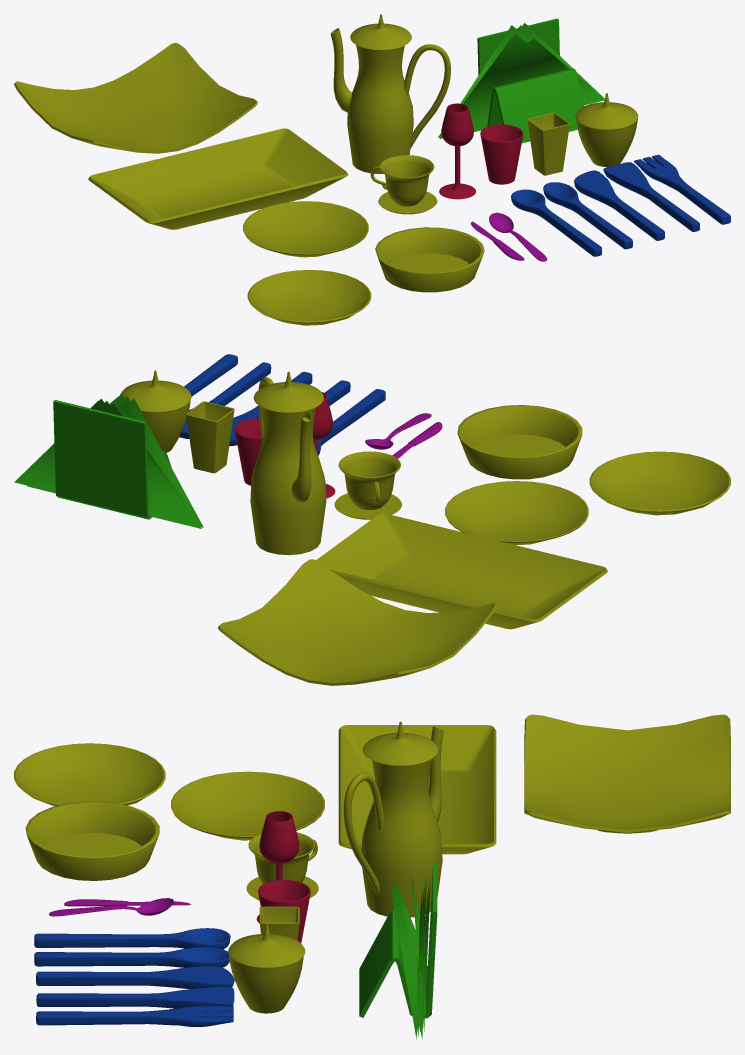
Rendered from kitchen items.FBX.
The picture shows the model from 3 angles, top to bottom: view 1: azimuth 30°, elevation 25°; view 2: azimuth 150°, elevation 25°; view 3: azimuth 270°, elevation 25°; orthographic projection. The views are drawn at different scales.
Visible parts, largest first — view 1: Plane001, Cylinder003, Plane002, Line10, Line016, Cylinder002, Cylinder001, Line015, Line03, Box001, Line02, Line01 (+6 smaller); view 2: Cylinder003, Plane001, Plane002, Line10, Line016, Cylinder002, Cylinder001, Line03, Line015, Box001, Line02, ZBrush_defualt_group001 (+5 smaller); view 3: Cylinder003, Line10, Plane001, Line016, Cylinder001, Cylinder002, Plane002, Line015, Group3, Group5, Group4, Group002 (+7 smaller).
Part boxes in pixels (x1,y1,x2,y2): Plane001: (88, 128, 348, 229); Cylinder003: (14, 43, 257, 153); Plane002: (438, 18, 604, 143); Line10: (330, 14, 450, 173); Line016: (375, 227, 484, 292); Cylinder002: (243, 201, 368, 257); Cylinder001: (247, 270, 371, 325); Line015: (575, 93, 638, 166); Line03: (370, 155, 437, 214); Box001: (527, 112, 569, 175); Line02: (480, 124, 523, 184); Line01: (439, 103, 475, 199); Cylinder003: (218, 559, 496, 685); Plane001: (317, 513, 607, 629); Plane002: (14, 394, 203, 528); Line10: (250, 371, 326, 555); Line016: (457, 405, 582, 479); Cylinder002: (445, 481, 588, 545); Cylinder001: (589, 451, 730, 515); Line03: (334, 451, 401, 519); Line015: (120, 370, 191, 452); Box001: (186, 401, 234, 473); Line02: (234, 418, 262, 485); ZBrush_defualt_group001: (317, 389, 385, 455); Cylinder003: (524, 714, 730, 833); Line10: (343, 721, 443, 917); Plane001: (338, 725, 496, 854); Line016: (25, 801, 159, 880); Cylinder001: (14, 743, 165, 806); Cylinder002: (171, 771, 324, 840); Plane002: (359, 864, 437, 1039); Line015: (228, 923, 305, 1013); Group3: (36, 966, 234, 989); Group5: (36, 1005, 233, 1026); Group4: (36, 987, 234, 1008); Group002: (34, 947, 229, 967).
Size of the model in its own units: 179 by 54.2 by 185.
